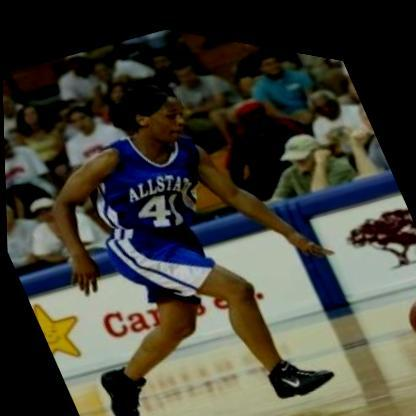basketball: (395, 262, 416, 336)
